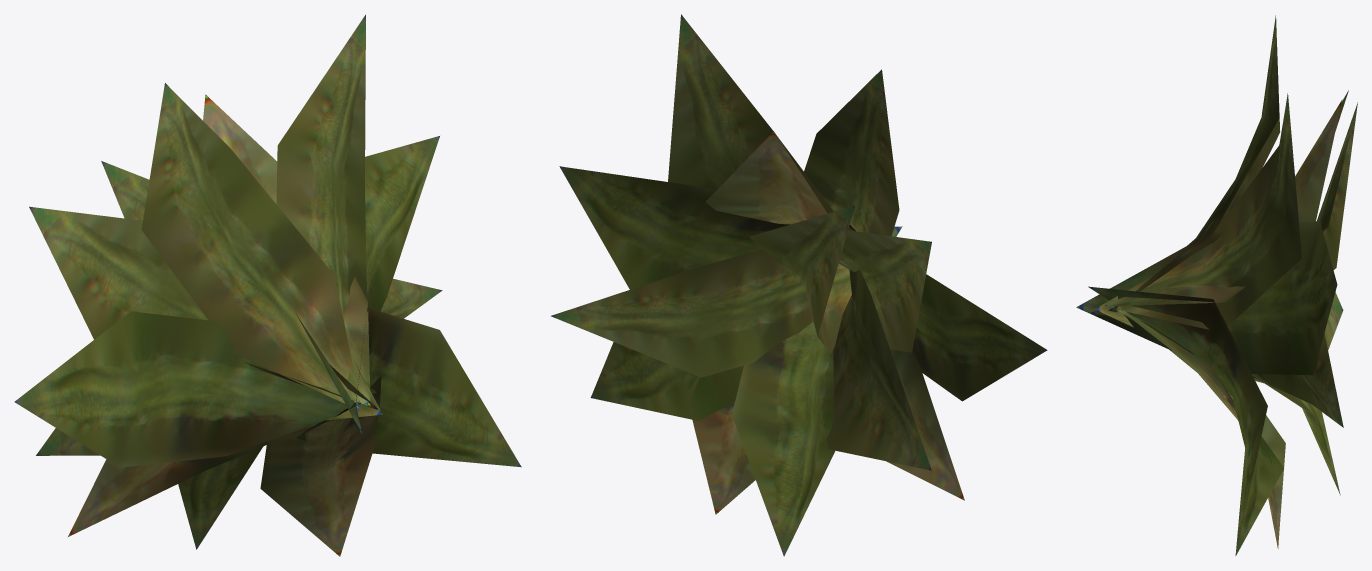
The model's file is Plant_02_1_vcta.fbx.
3 views of the same model, side by side, from view 1: azimuth 30°, elevation 25°; view 2: azimuth 150°, elevation 25°; view 3: azimuth 270°, elevation 25° (orthographic). The views are drawn at different scales.
Parts seen in each view (by area): view 1: Plant_02_1; view 2: Plant_02_1; view 3: Plant_02_1.
Boxes of the visible parts, x1,y1,x2,y2 form: Plant_02_1: (14, 14, 521, 556); Plant_02_1: (551, 14, 1047, 556); Plant_02_1: (1076, 15, 1357, 555).
Bounding box in the file's own units: 2.36 × 2.4 × 1.3.
